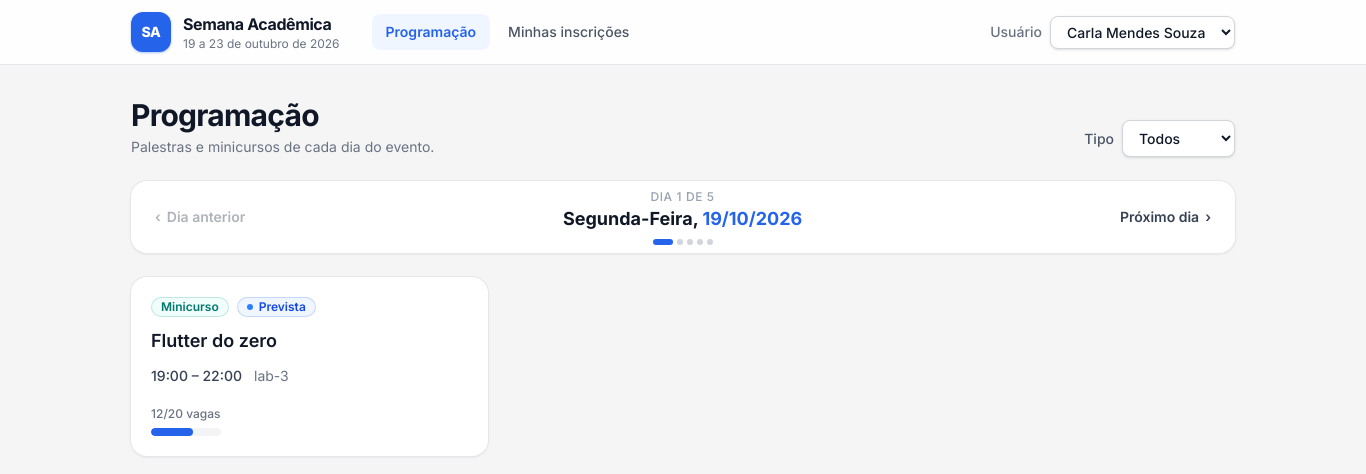
Test: App — M2 › organização não vê a inscrição nem Minhas inscrições
This screenshot has width=1366, height=474.
Step 1. Select "Ana Beatriz Lima" in the dropdown labelled "Usuário" → [1142, 32], box [1050, 16, 1235, 48]
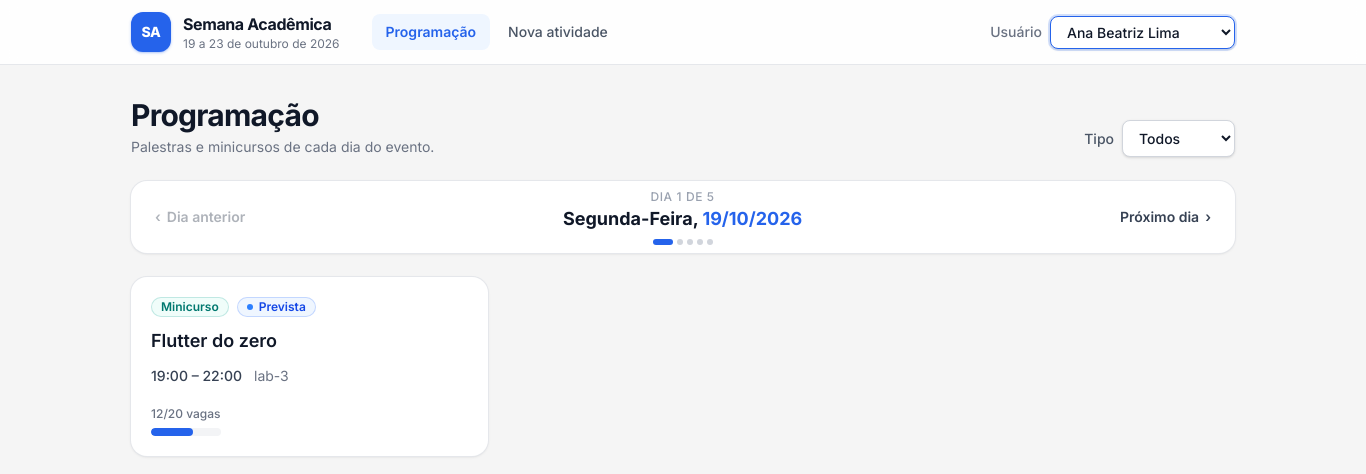
Expected: the button "Minhas inscrições" is gone
